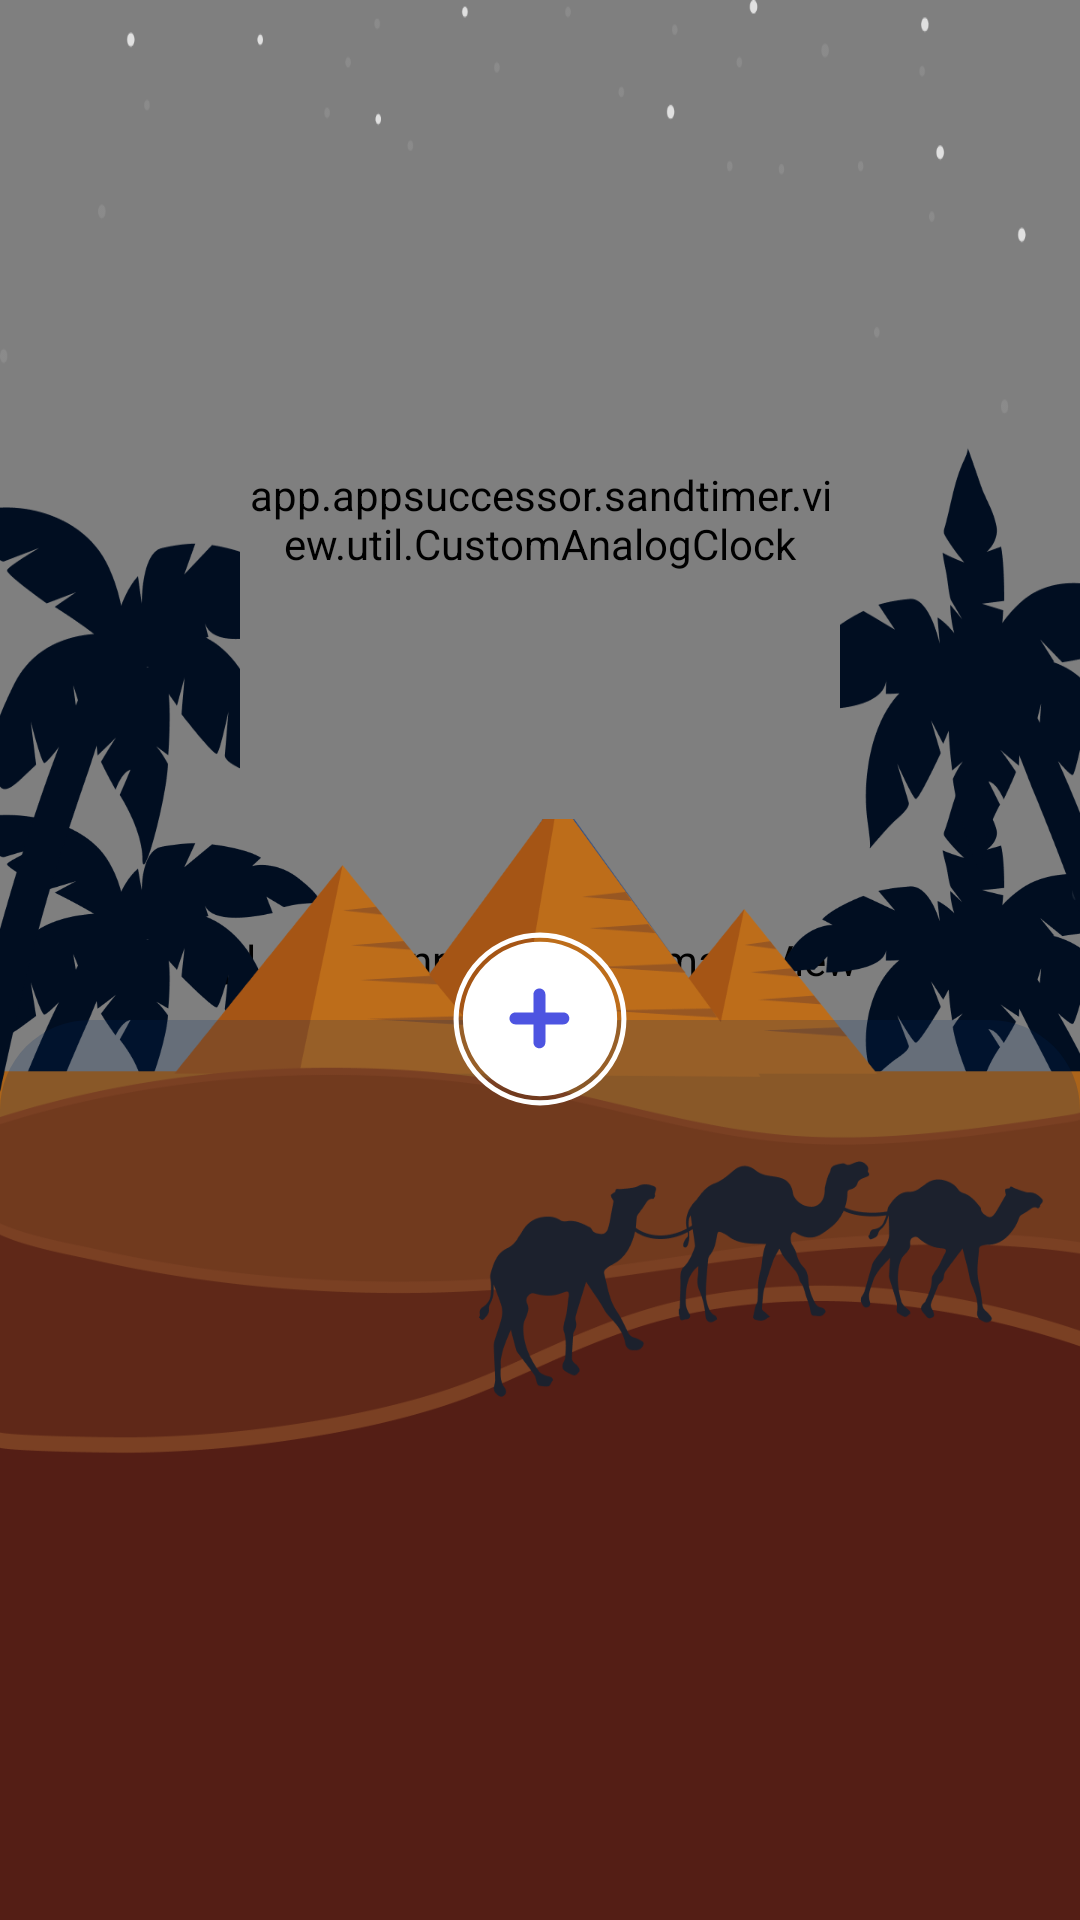

Screen size 1080 × 1920. Icon name, then its center in pixels as [x,y]:
add alarm: [540,1019]
